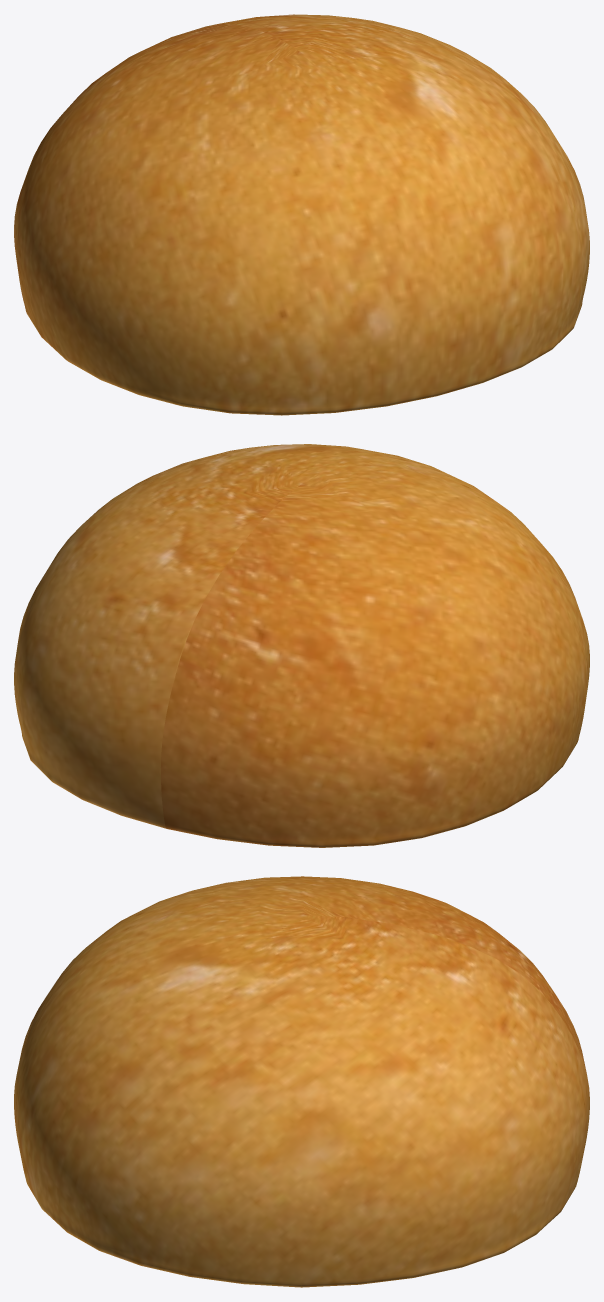
Rendered from topbun.obj.
The picture shows the model from 3 angles, top to bottom: view 1: azimuth 30°, elevation 25°; view 2: azimuth 150°, elevation 25°; view 3: azimuth 270°, elevation 25°; orthographic projection. The views are drawn at different scales.
Parts seen in each view (by area): view 1: pain; view 2: pain; view 3: pain.
Boxes of the visible parts, x1=… form: pain: x1=14, y1=14, x2=589, y2=415; pain: x1=14, y1=444, x2=589, y2=847; pain: x1=14, y1=876, x2=589, y2=1287.
Size of the model in its own units: 2.34 by 1.15 by 2.33.
1 material, 1 textured.
